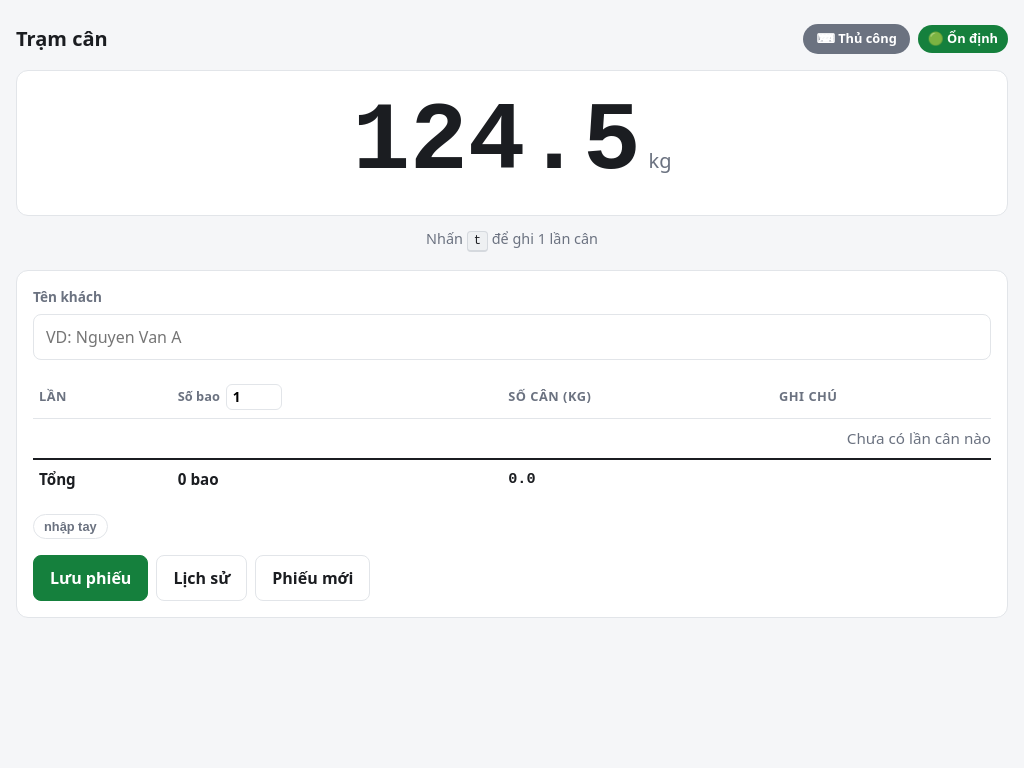
it: WeighScreen › sửa số cân tại dòng rồi cập nhật tổng
The width and height of the screenshot is (1024, 768).
Type keys "t"
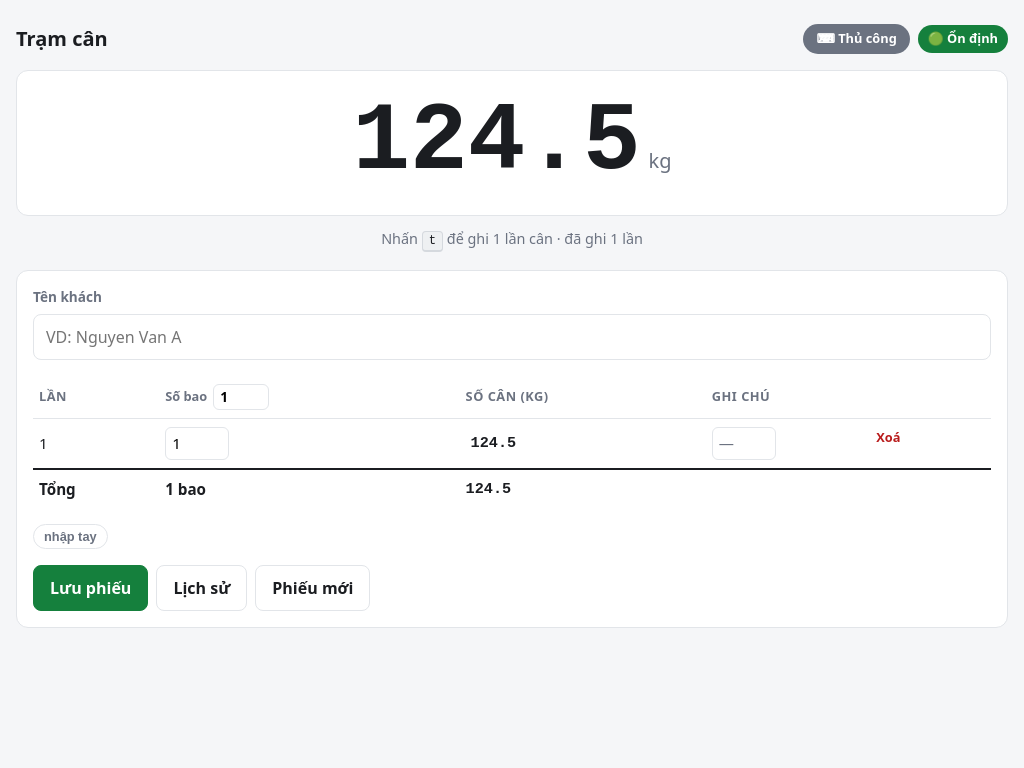
Click the button named "Sửa số cân lần 1" at coordinates (493, 444), box [466,429,521,458]
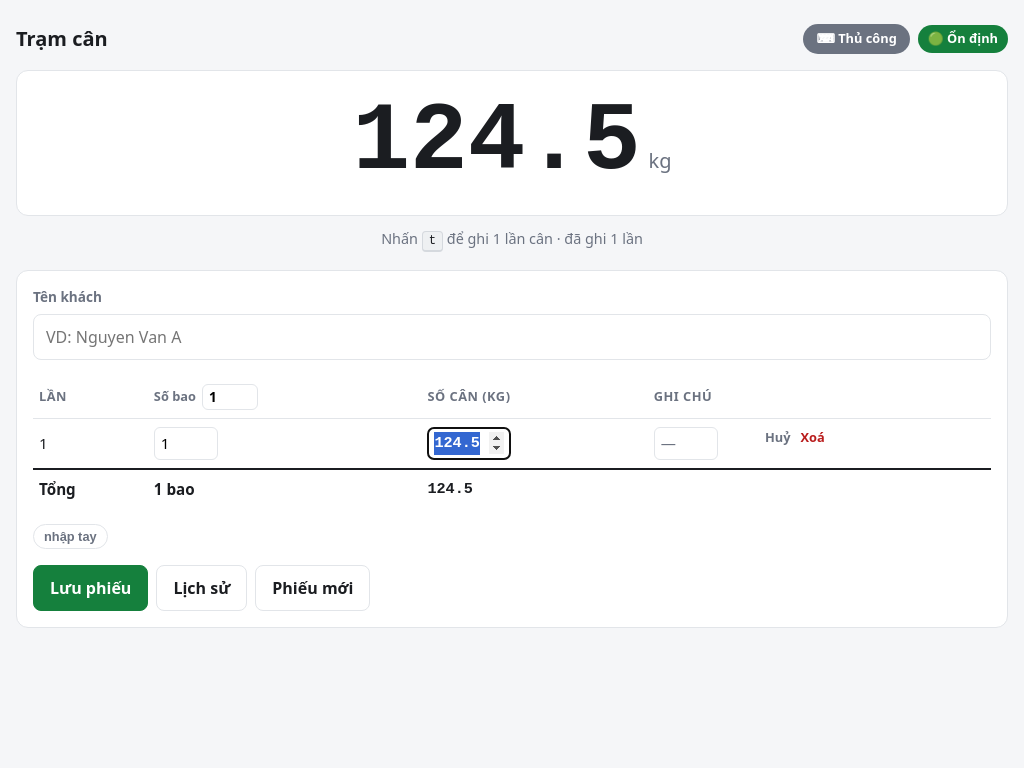
Replace the text in the number field named "Số cân lần 1" with "200" at coordinates (469, 444), box [427,427,511,460]
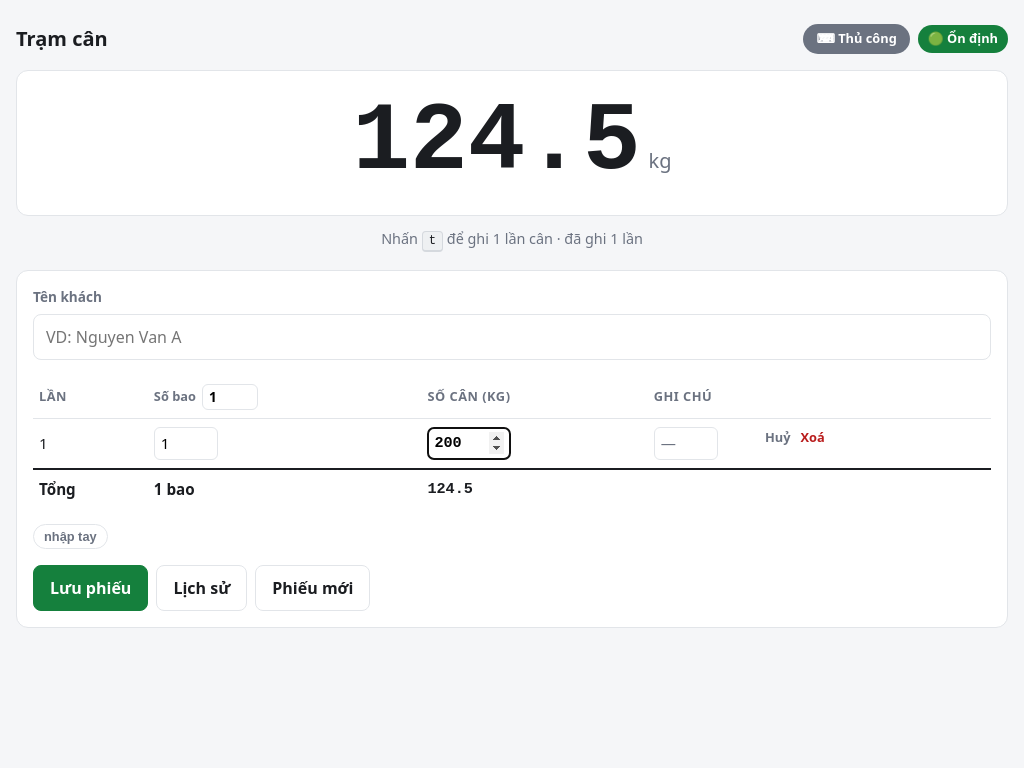
Press Enter
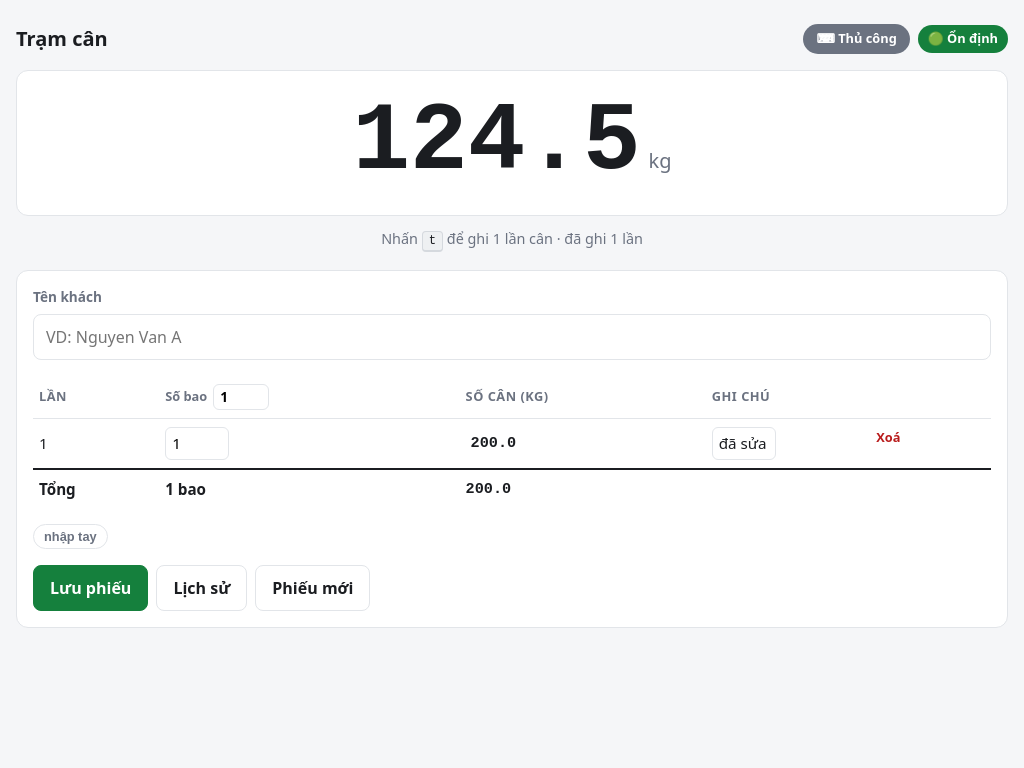
Expected: the number of buttons "200.0" is 2, [466,429,521,458]; [460,469,706,509]
